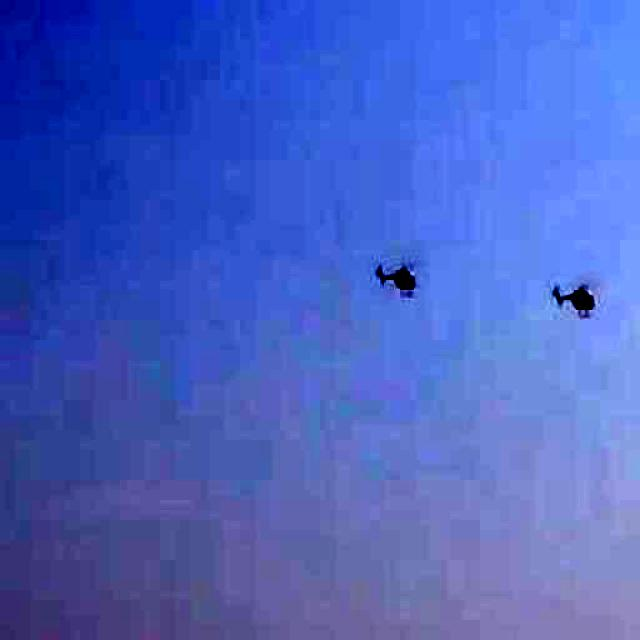drone: (536, 265, 606, 329), (368, 244, 426, 306)
